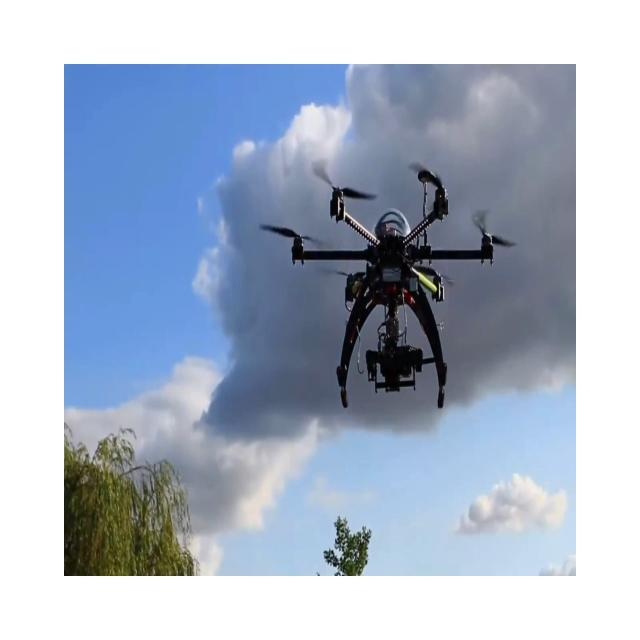drone: (258, 160, 517, 410)
